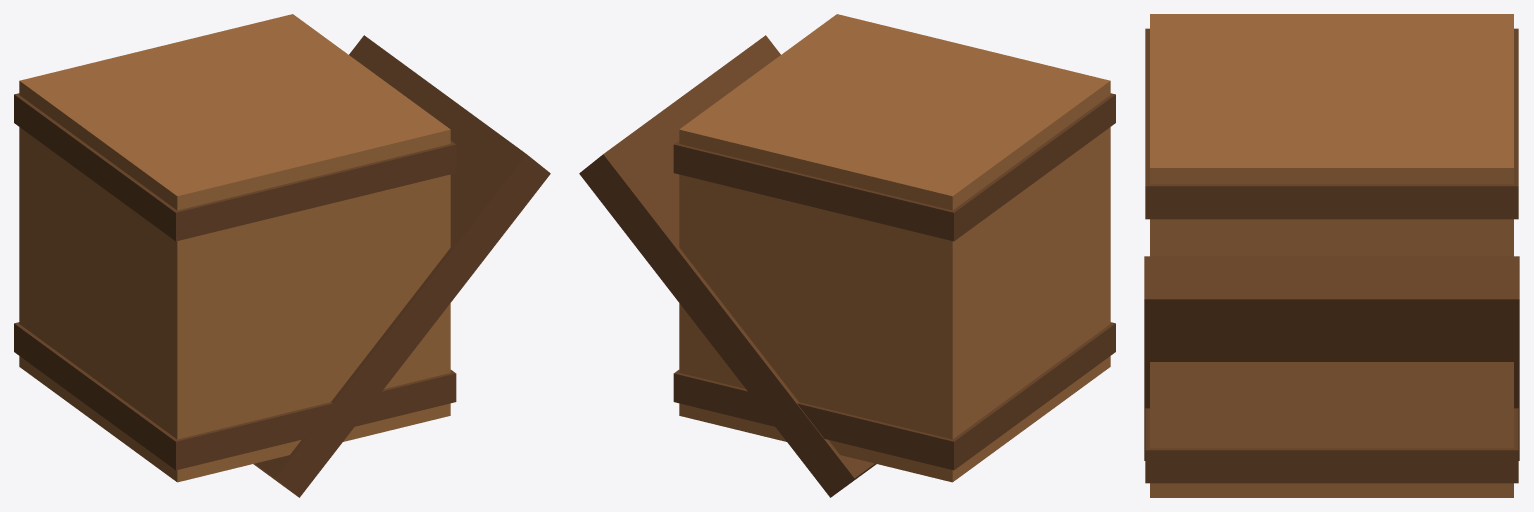
Rendered from mdl_caja_madera.fbx.
3 views of the same model, side by side, from view 1: azimuth 30°, elevation 25°; view 2: azimuth 150°, elevation 25°; view 3: azimuth 270°, elevation 25° (orthographic). The views are drawn at different scales.
Visible parts, largest first — view 1: mdl_caja_madera; view 2: mdl_caja_madera; view 3: mdl_caja_madera.
Part boxes in pixels (bbox=[...]): mdl_caja_madera: bbox=[14, 14, 550, 497]; mdl_caja_madera: bbox=[579, 14, 1115, 497]; mdl_caja_madera: bbox=[1144, 14, 1519, 497].
Size of the model in its own units: 274 by 230 by 206.
